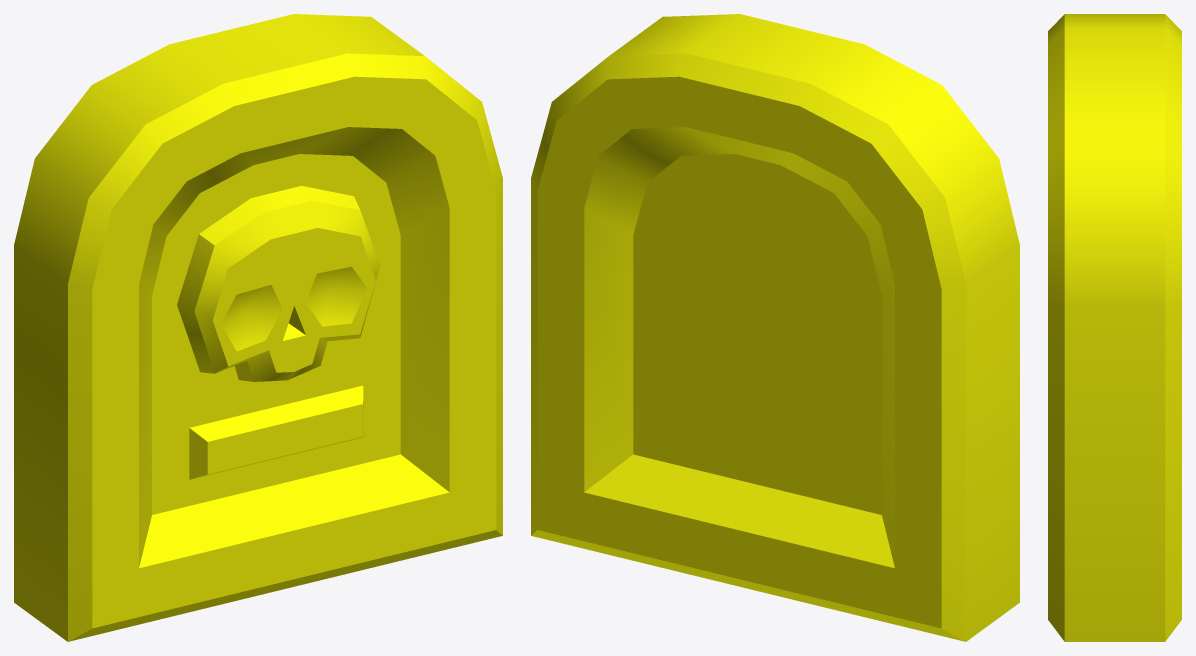
File: kaykit-gravestone.glb
3 renders of one model, left to right at view 1: azimuth 30°, elevation 25°; view 2: azimuth 150°, elevation 25°; view 3: azimuth 270°, elevation 25°, orthographic. The views are drawn at different scales.
Visible parts, largest first — view 1: gravestone; view 2: gravestone; view 3: gravestone.
Part boxes in pixels (bbox=[...]): gravestone: bbox=[14, 14, 502, 641]; gravestone: bbox=[531, 14, 1019, 641]; gravestone: bbox=[1048, 14, 1181, 641].
Bounding box in the file's own units: 1.4 × 1.6 × 0.4001.
